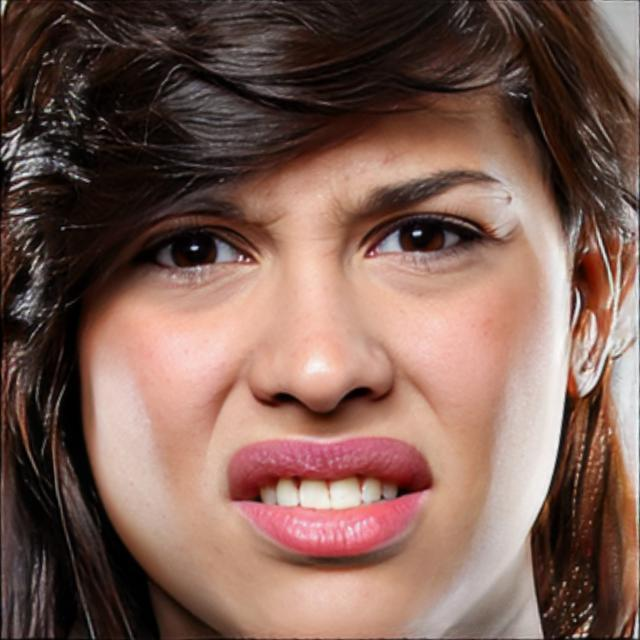disgust: (77, 19, 574, 640)
